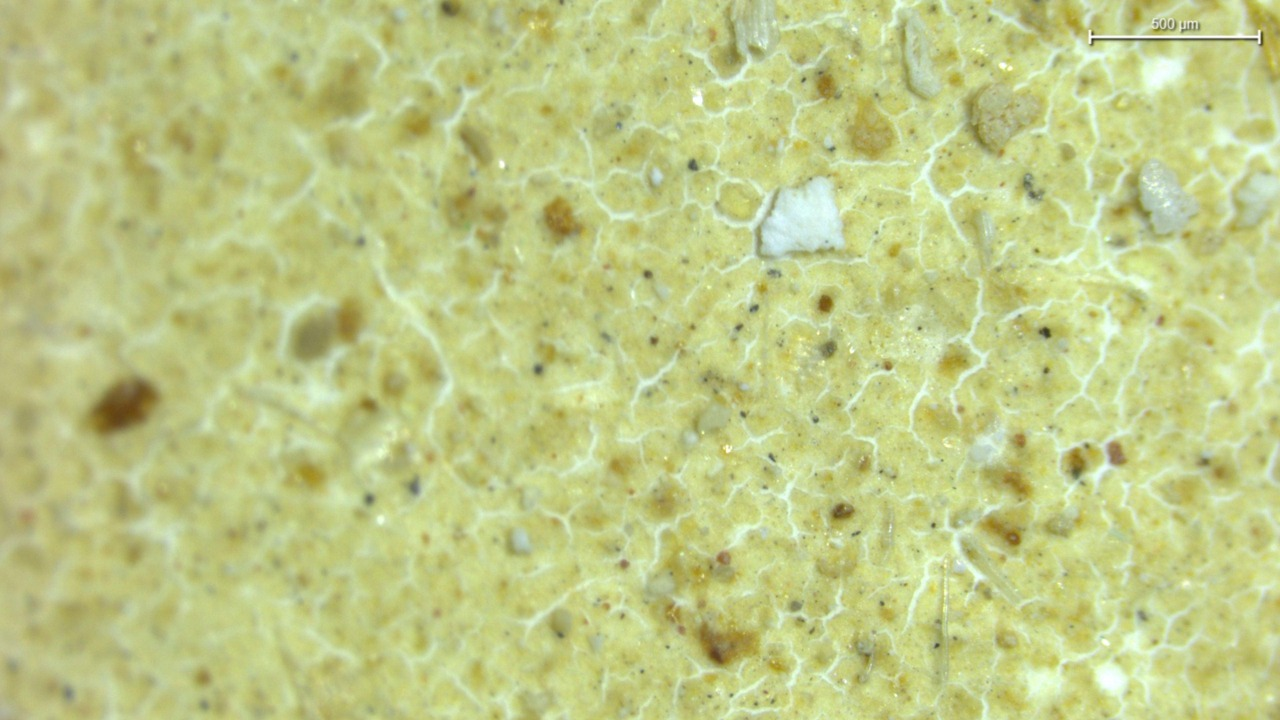microplastic_fragment: (754, 178, 846, 259), (1135, 154, 1201, 238), (969, 83, 1041, 153), (905, 13, 948, 100)
